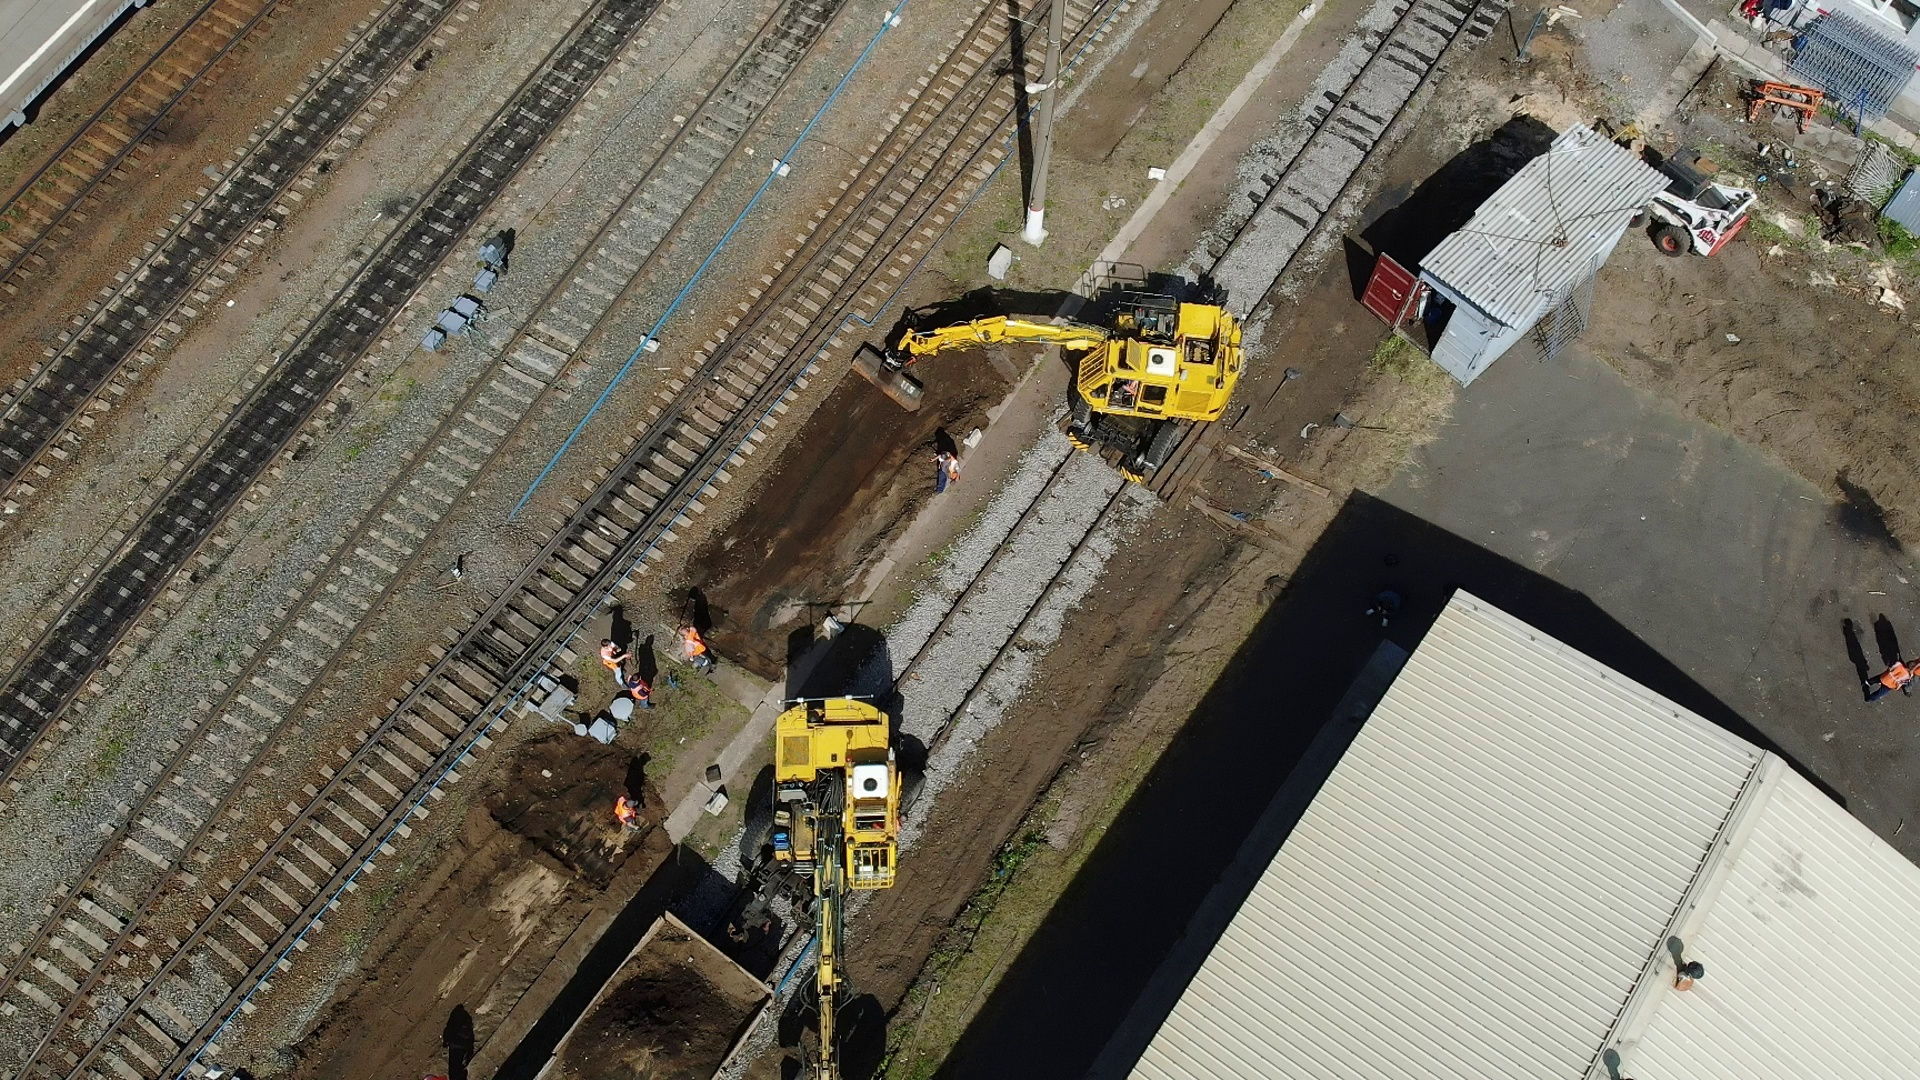kjtv: (1019, 287, 1246, 469), (752, 680, 919, 882)
